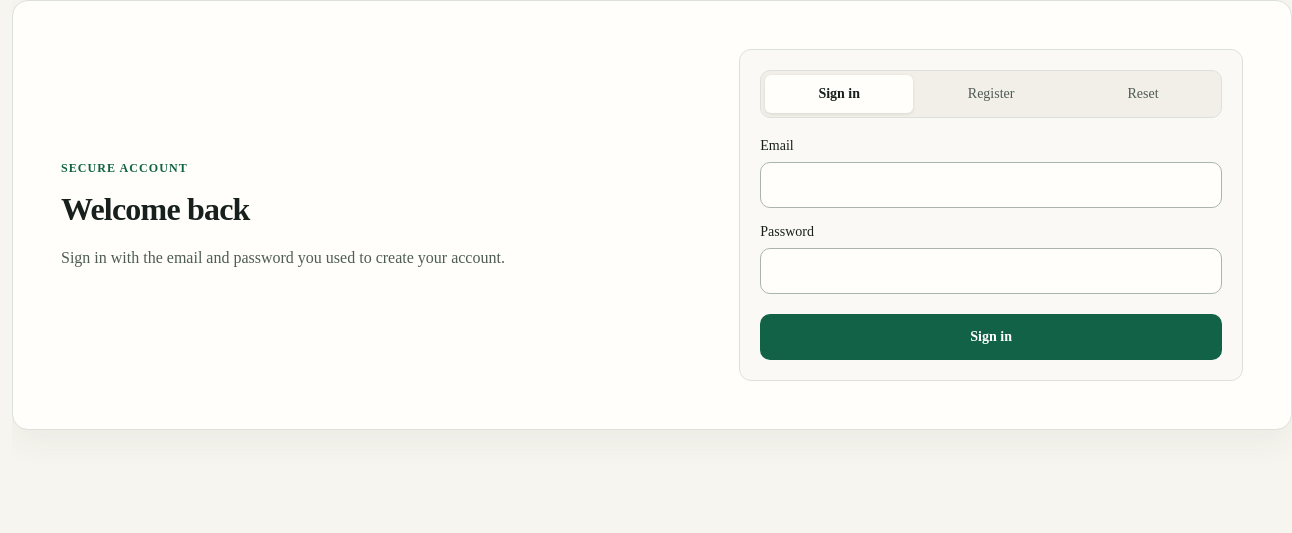
Test: AuthBoundary › creates an account with email and password
Click the button "Register".
click(991, 94)  # box [917,75,1065,113]
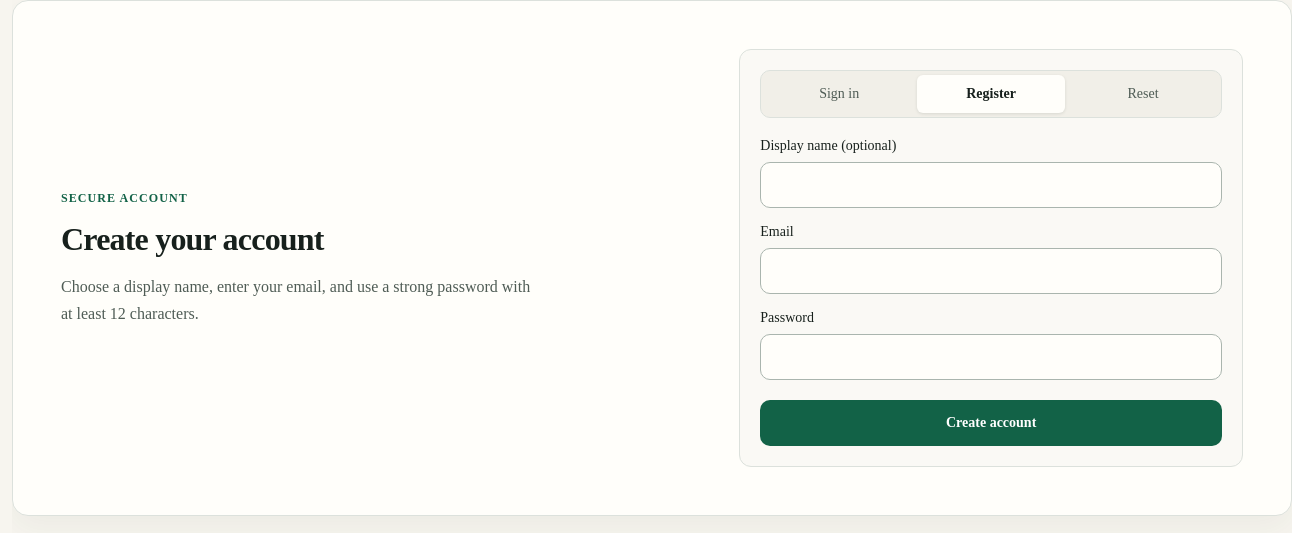
Type "New User" into the field labelled "Display name (optional)".
click(991, 185); type("New User")  # box [760,162,1222,208]
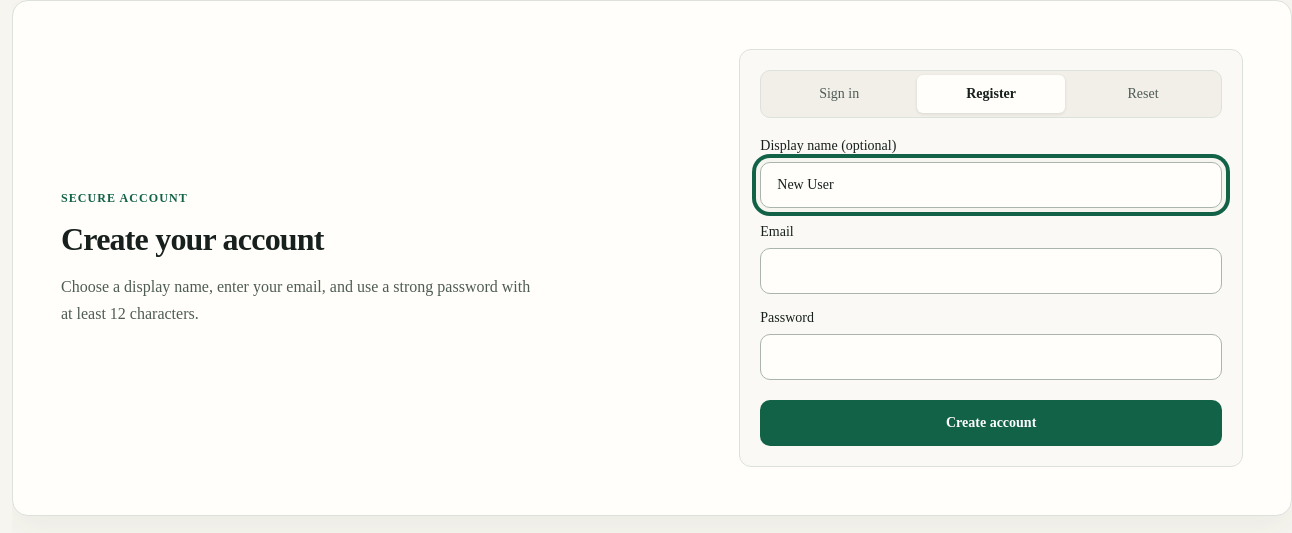
Type "new-user@example.com" into the field labelled "Email".
click(991, 271); type("new-user@example.com")  # box [760,248,1222,294]
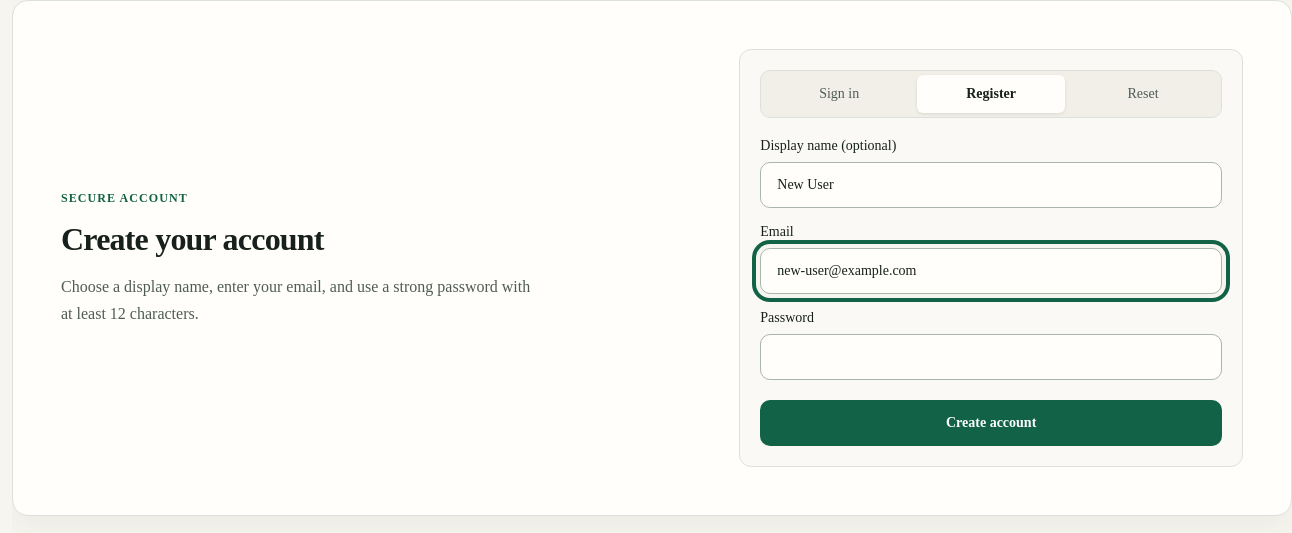
Type "correct horse battery staple" into the password field labelled "Password".
click(991, 357); type("correct horse battery staple")  # box [760,334,1222,380]
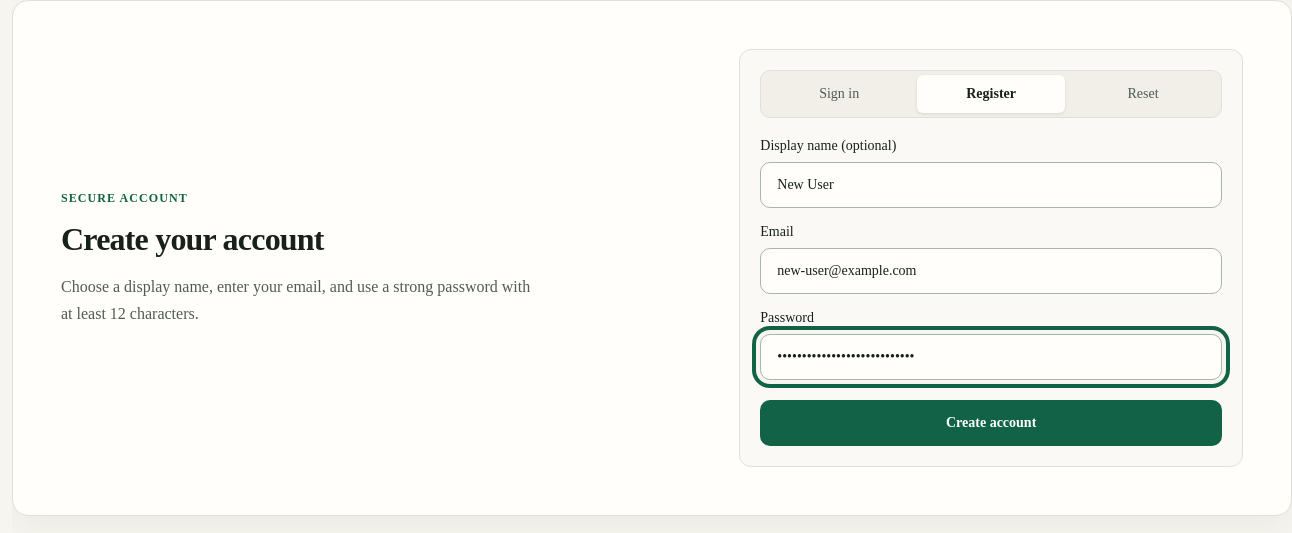
Click the button "Create account".
click(991, 423)  # box [760,400,1222,446]
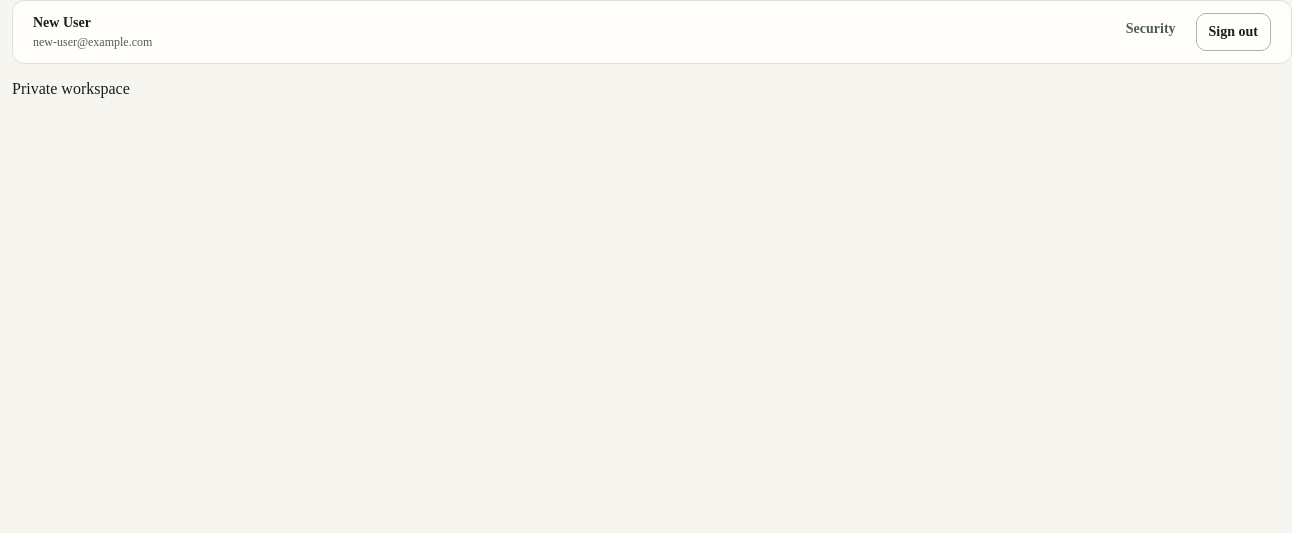
Now the text "Private workspace" is shown, box [12,80,130,97]
